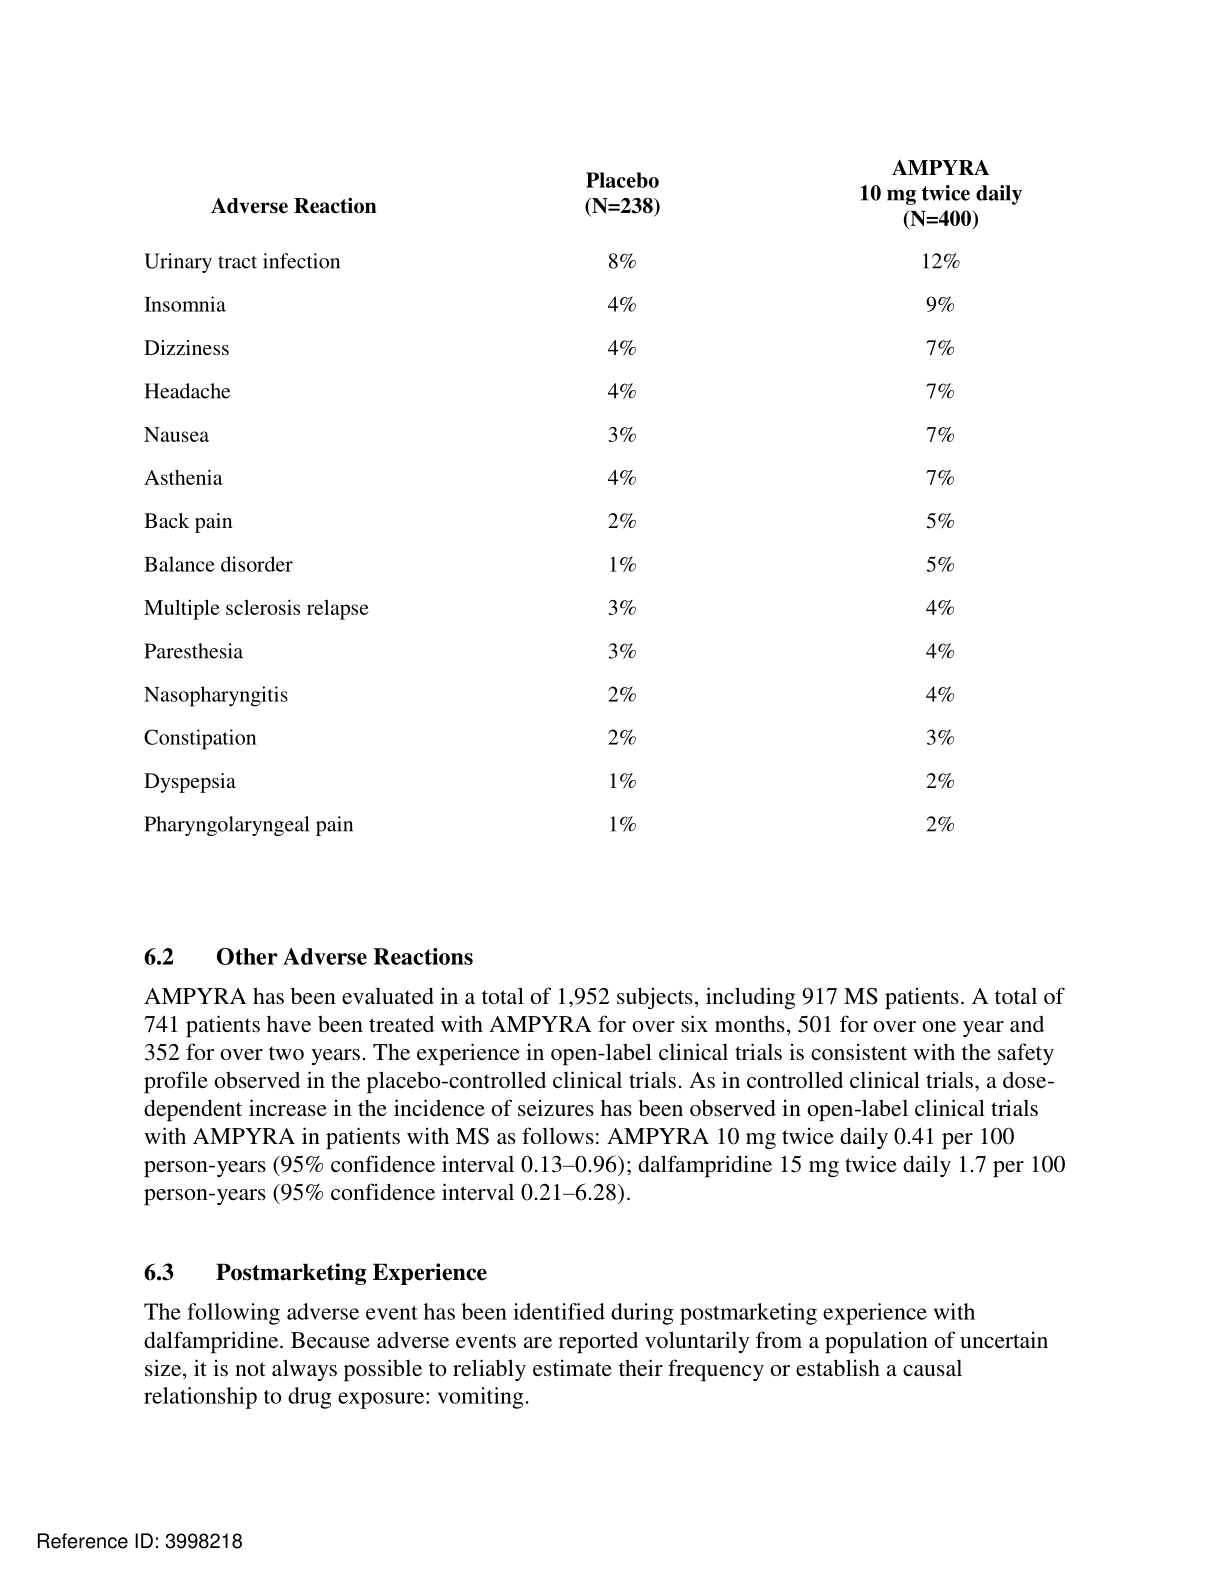nolines: (141, 156, 1026, 837)
